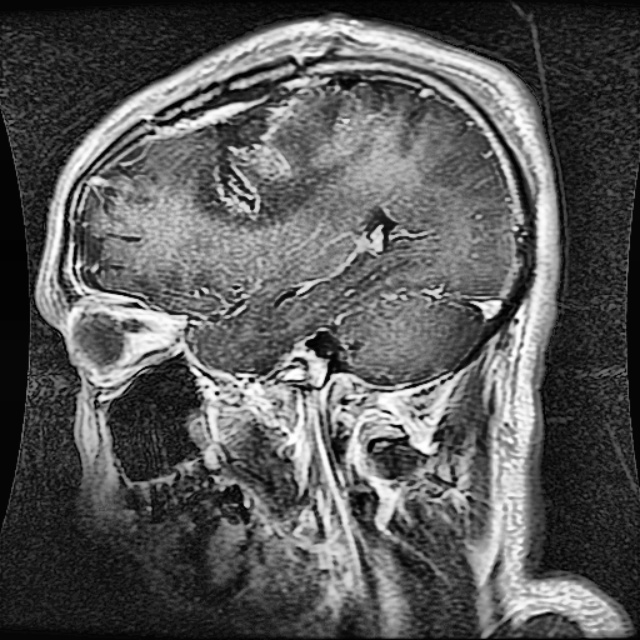Meningioma: (209, 98, 297, 213)
